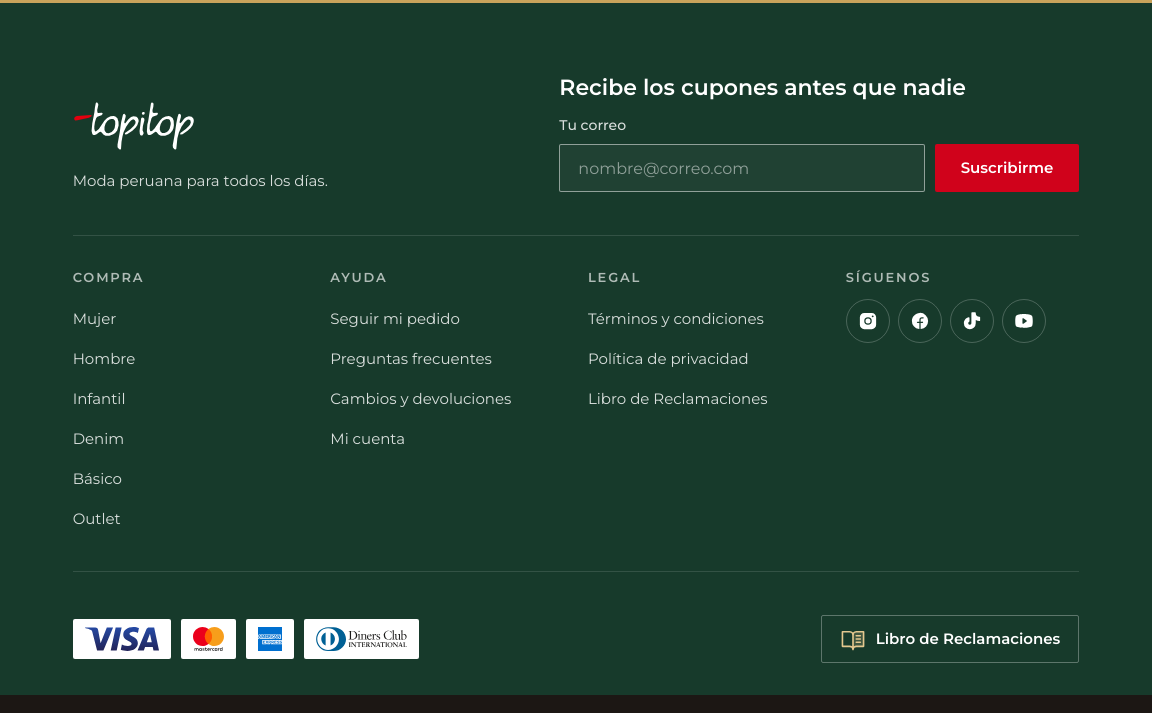
Test case: SiteFooter › suscribe el correo, lo confirma y limpia el campo
This screenshot has width=1152, height=713.
In the field labelled "Tu correo": (742,168) [559,144,925,192], type "ana@correo.pe"
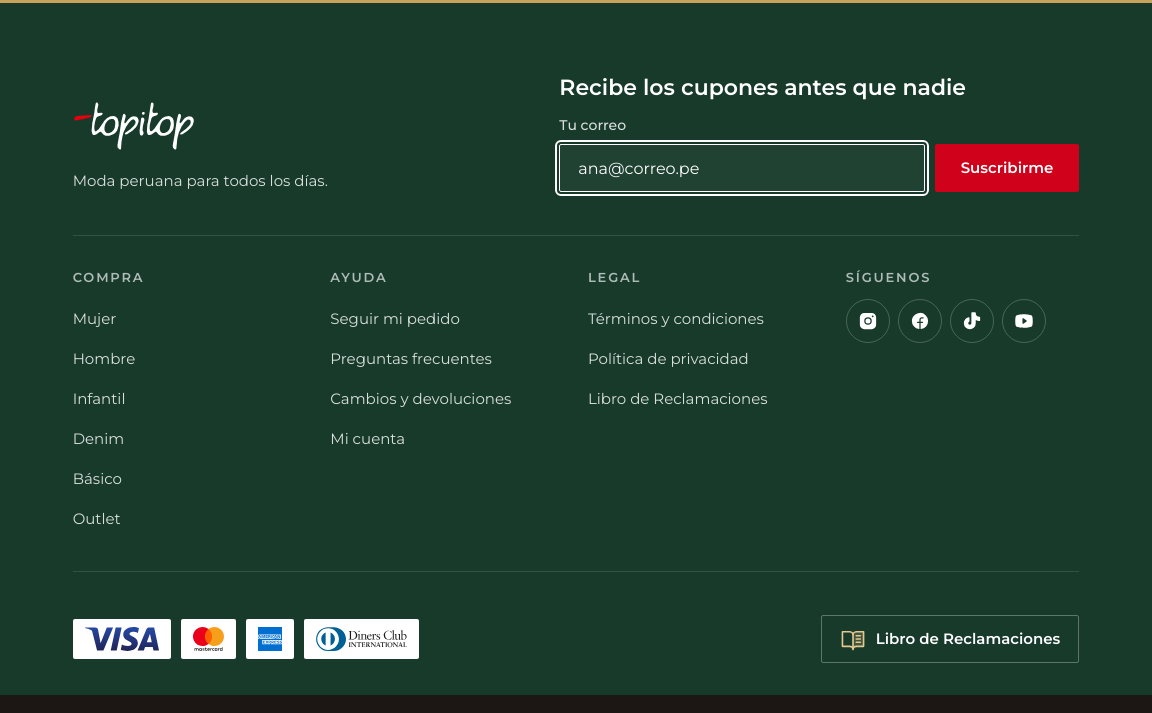
Click the button "Suscribirme": (1007,168) [935,144,1079,192]
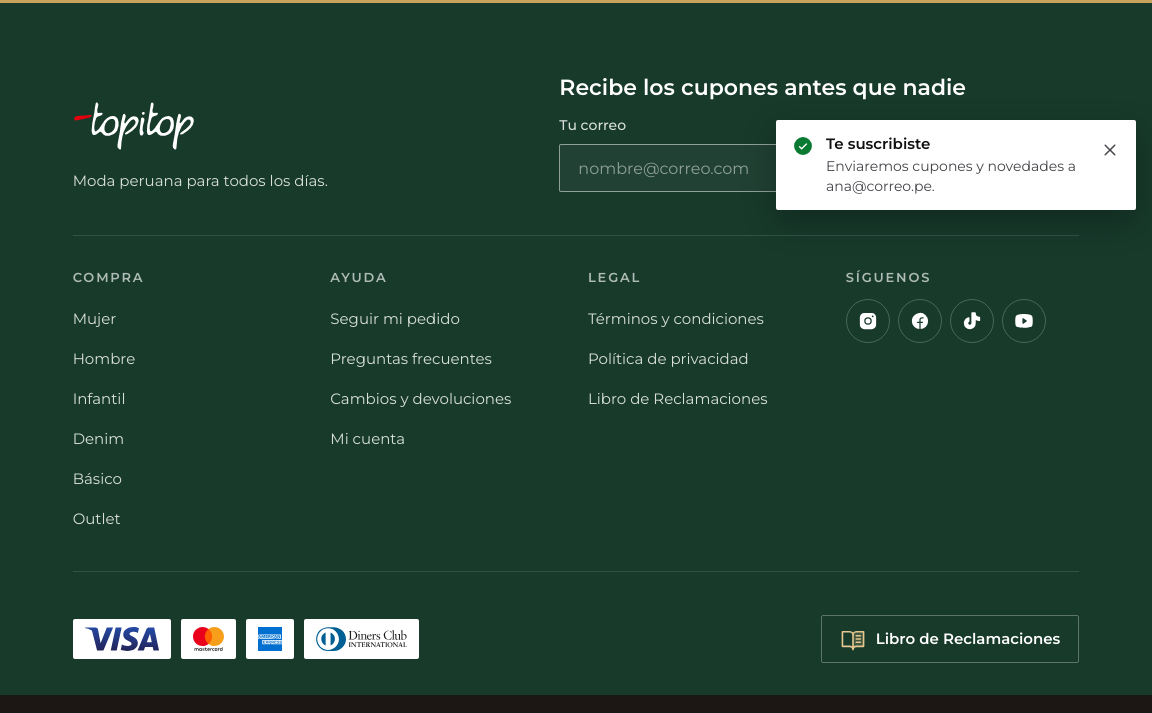
Expected: the text "Te suscribiste" is shown, [826,134,930,153]
